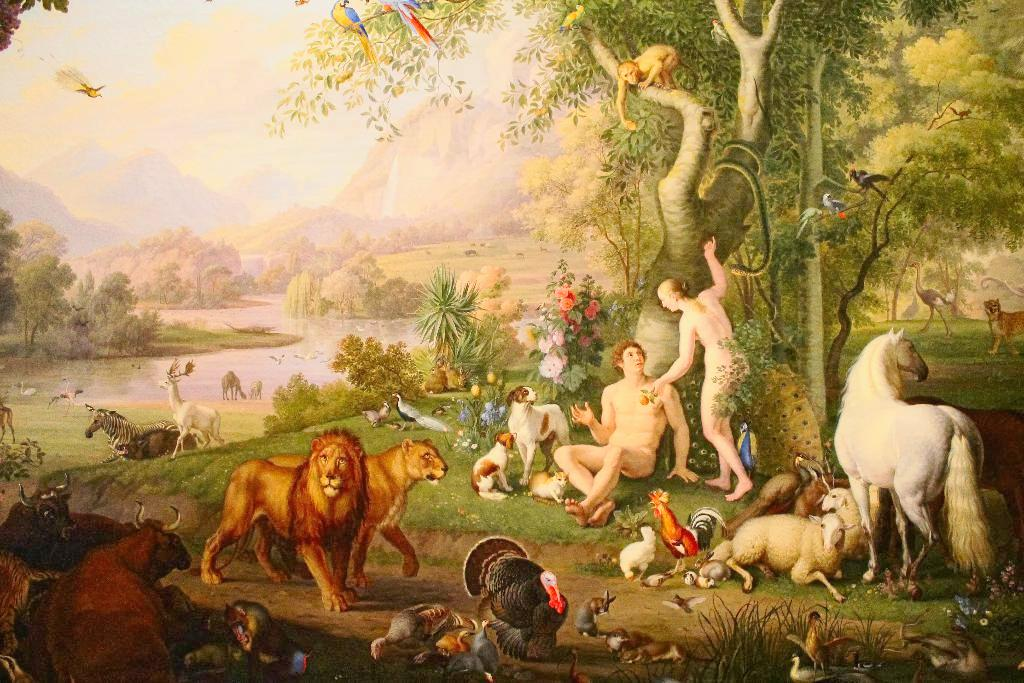Sheep: (727, 514, 855, 601), (818, 488, 864, 558)
